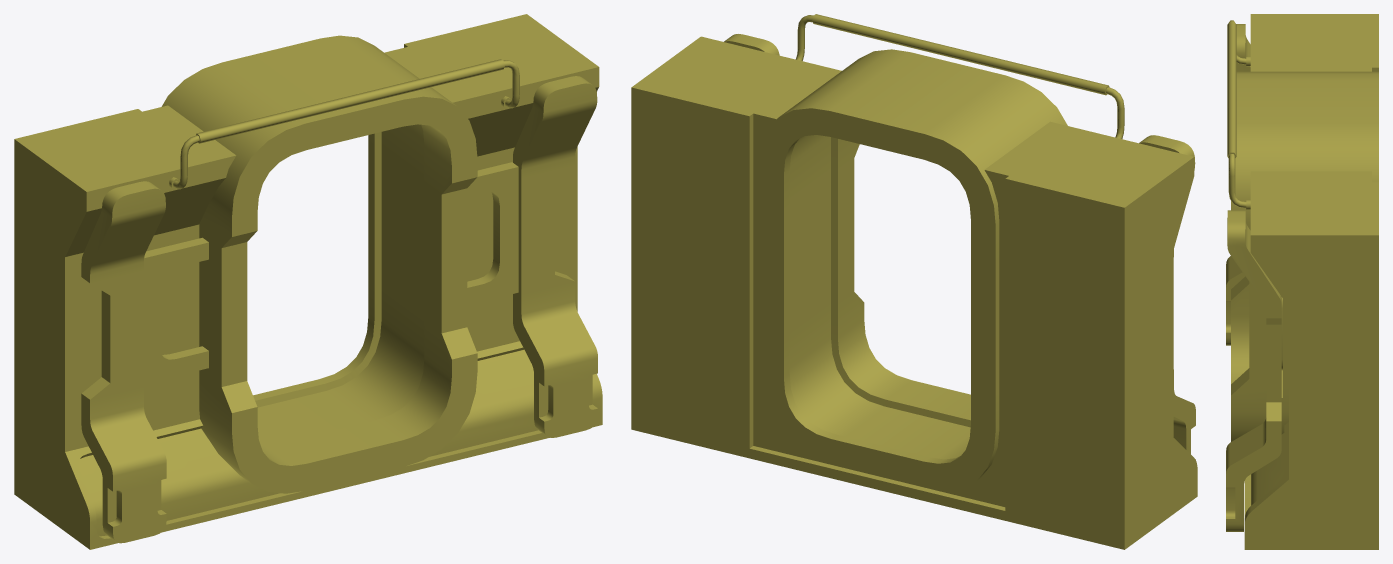
File: Wall_Door.FBX
3 views of the same model, side by side, from view 1: azimuth 30°, elevation 25°; view 2: azimuth 150°, elevation 25°; view 3: azimuth 270°, elevation 25° (orthographic). The views are drawn at different scales.
Visible parts, largest first — view 1: Wall_Door; view 2: Wall_Door; view 3: Wall_Door.
Boxes of the visible parts, x1,y1,x2,y2 form: Wall_Door: (14,14,602,549); Wall_Door: (631,14,1197,549); Wall_Door: (1226,14,1378,549).
Bounding box in the file's own units: 400 × 296 × 117.
